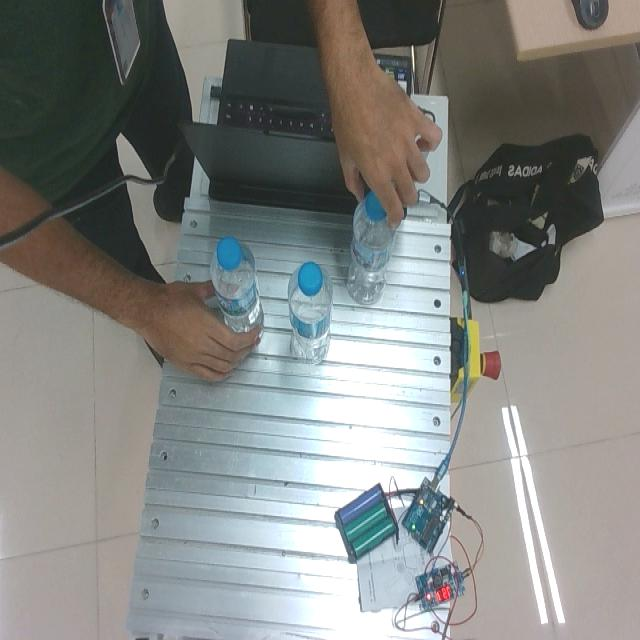lavie: (346, 188, 399, 307), (210, 236, 264, 340), (288, 260, 334, 364)
